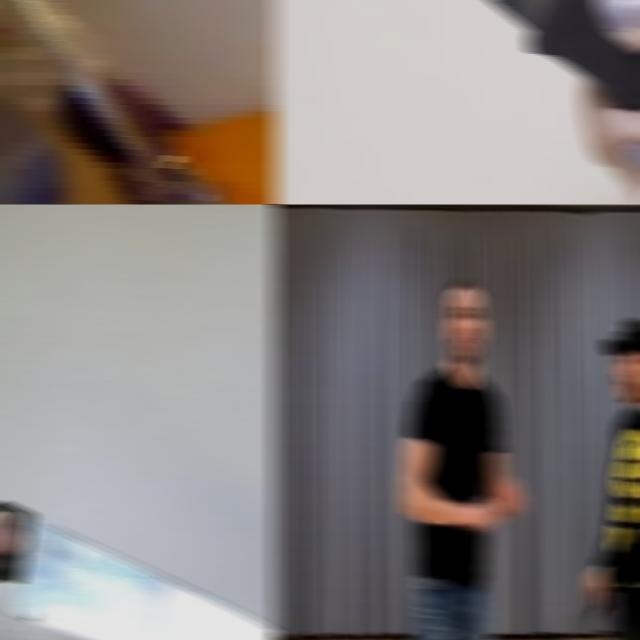Knife: (0, 498, 278, 640), (488, 0, 640, 112)
Knife_Handle: (9, 0, 278, 204), (584, 565, 614, 621)
